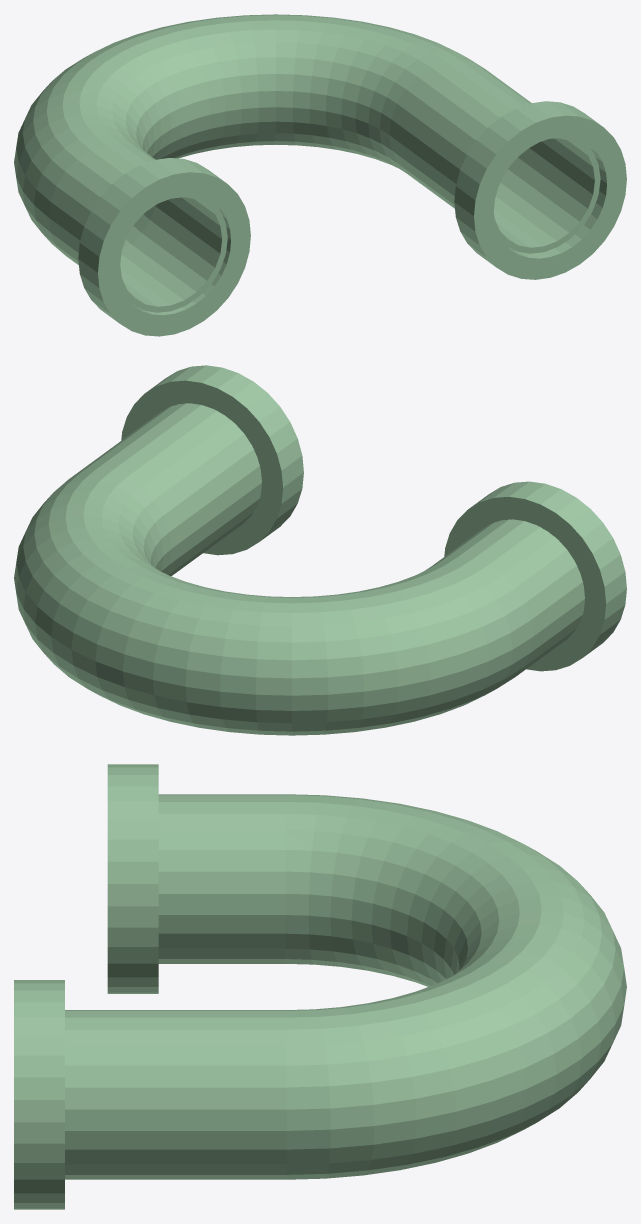
The picture shows the model from 3 angles, top to bottom: view 1: azimuth 30°, elevation 25°; view 2: azimuth 150°, elevation 25°; view 3: azimuth 270°, elevation 25°; orthographic projection. The views are drawn at different scales.
Visible parts, largest first — view 1: geometry_0; view 2: geometry_0; view 3: geometry_0.
Part boxes in pixels (x1,y1,x2,y2): geometry_0: (14, 14, 626, 336); geometry_0: (14, 365, 626, 735); geometry_0: (14, 764, 626, 1209).
Bounding box in the file's own units: 174 × 54 × 144.
